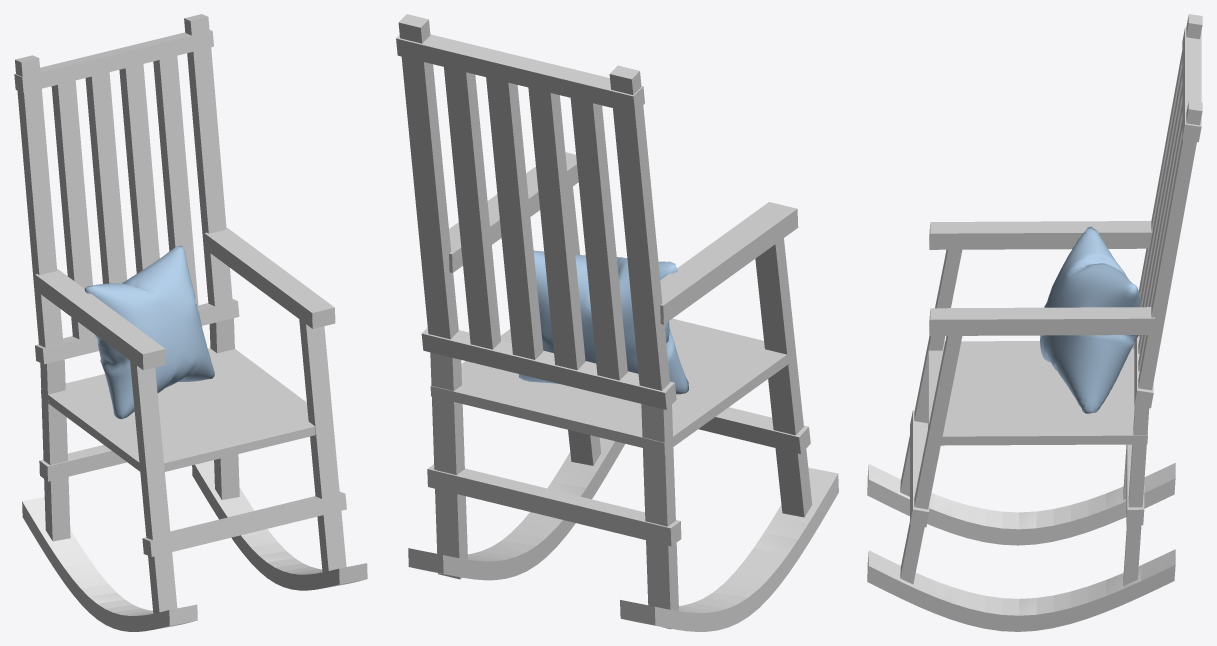
The model's file is rocking_chair.glb.
3 renders of one model, left to right at view 1: azimuth 30°, elevation 25°; view 2: azimuth 150°, elevation 25°; view 3: azimuth 270°, elevation 25°, orthographic. The views are drawn at different scales.
Visible parts, largest first — view 1: Cube, Plane.003; view 2: Cube, Plane.003; view 3: Cube, Plane.003.
Boxes of the visible parts, <box> form: Cube: <box>14,14,367,631</box>; Plane.003: <box>84,245,214,419</box>; Cube: <box>396,14,838,631</box>; Plane.003: <box>518,250,688,394</box>; Cube: <box>867,14,1202,631</box>; Plane.003: <box>1040,226,1140,413</box>.
Bounding box in the file's own units: 3.78 × 9.1 × 5.32.
